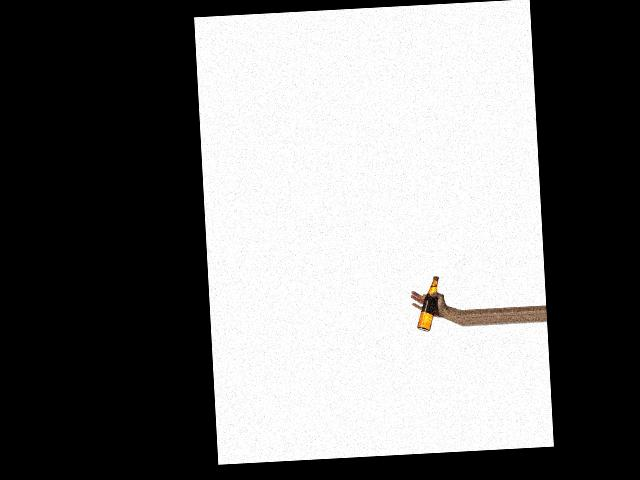beer: (415, 276, 441, 331)
